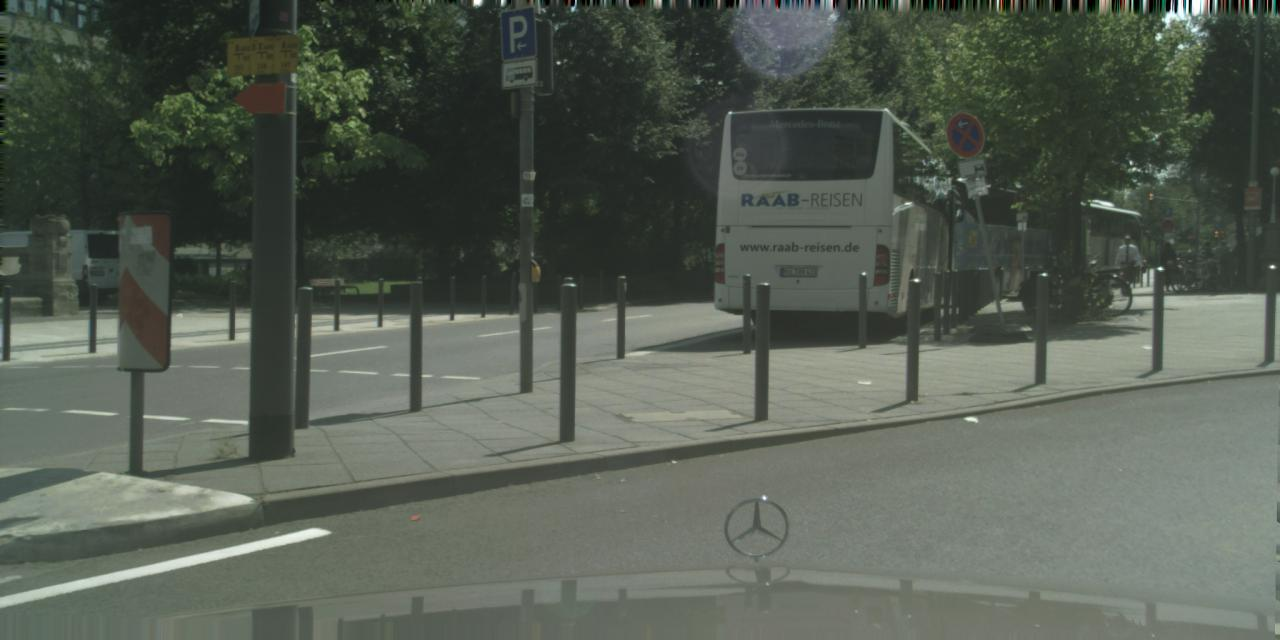ped: (1114, 234, 1138, 297), (1159, 242, 1179, 291), (1212, 240, 1230, 286), (1198, 240, 1215, 282)
